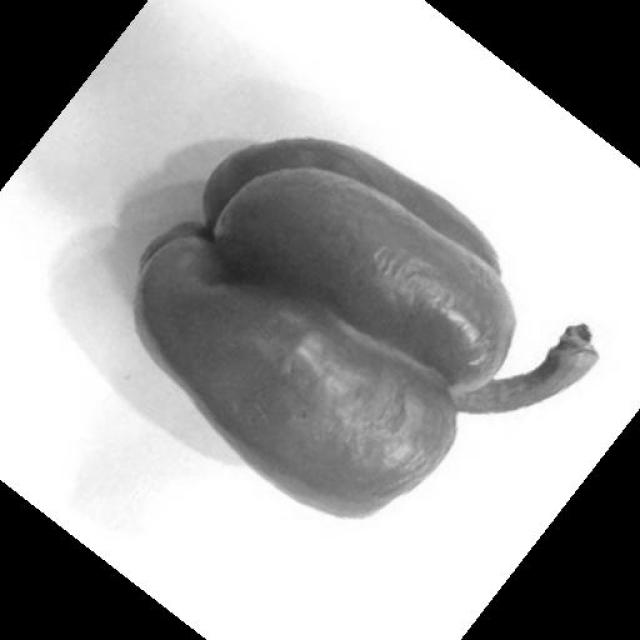Fresh_Capsicum: (170, 133, 526, 504)
